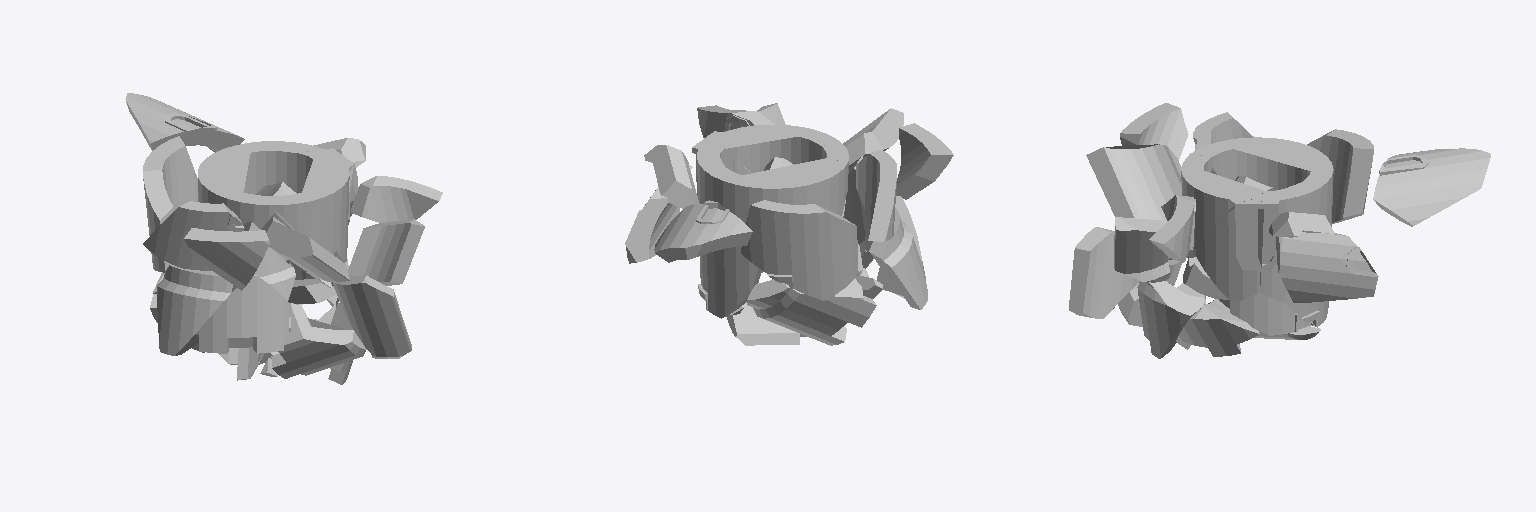
The model's file is destruction_tower_000047.obj.
The picture shows the model from 3 angles: view 1: azimuth 30°, elevation 25°; view 2: azimuth 150°, elevation 25°; view 3: azimuth 270°, elevation 25°; orthographic projection.
Parts seen in each view (by area): view 1: tower.001_cell.006_Mesh.006, tower.001_cell.005_Mesh.005, tower.001_cell.028_Mesh.028, tower.001_cell.021_Mesh.021, tower.001_cell.011_Mesh.011, tower.001_cell.003_Mesh.003, tower.001_cell_Mesh, tower.001_cell.025_Mesh.025, tower.001_cell.002_Mesh.002, tower.001_cell.009_Mesh.009, tower.001_cell.010_Mesh.010, tower.001_cell.017_Mesh.017 (+9 smaller); view 2: tower.001_cell.003_Mesh.003, tower.001_cell.017_Mesh.017, tower.001_cell.007_Mesh.007, tower.001_cell.015_Mesh.015, tower.001_cell.025_Mesh.025, tower.001_cell.028_Mesh.028, tower.001_cell.005_Mesh.005, tower.001_cell.009_Mesh.009, tower.001_cell.002_Mesh.002, tower.001_cell.012_Mesh.012, tower.001_cell.016_Mesh.016, tower.001_cell.029_Mesh.029 (+4 smaller); view 3: tower.001_cell.025_Mesh.025, tower.001_cell.012_Mesh.012, tower.001_cell.024_Mesh.024, tower.001_cell.020_Mesh.020, tower.001_cell.021_Mesh.021, tower.001_cell.015_Mesh.015, tower.001_cell.003_Mesh.003, tower.001_cell.023_Mesh.023, tower.001_cell.028_Mesh.028, tower.001_cell_Mesh, tower.001_cell.030_Mesh.030, tower.001_cell.017_Mesh.017 (+9 smaller).
Part boxes in pixels (x1,y1,x2,y2): tower.001_cell.006_Mesh.006: (196, 275, 288, 353); tower.001_cell.005_Mesh.005: (157, 265, 232, 355); tower.001_cell.028_Mesh.028: (270, 159, 354, 254); tower.001_cell.021_Mesh.021: (331, 275, 411, 358); tower.001_cell.011_Mesh.011: (271, 303, 366, 378); tower.001_cell.003_Mesh.003: (143, 136, 197, 272); tower.001_cell_Mesh: (348, 219, 424, 285); tower.001_cell.025_Mesh.025: (126, 93, 244, 152); tower.001_cell.002_Mesh.002: (184, 228, 269, 290); tower.001_cell.009_Mesh.009: (143, 201, 244, 270); tower.001_cell.010_Mesh.010: (351, 176, 442, 222); tower.001_cell.017_Mesh.017: (234, 141, 319, 263); tower.001_cell.003_Mesh.003: (741, 200, 858, 300); tower.001_cell.017_Mesh.017: (697, 152, 761, 318); tower.001_cell.007_Mesh.007: (747, 278, 876, 345); tower.001_cell.015_Mesh.015: (738, 158, 846, 215); tower.001_cell.025_Mesh.025: (654, 200, 752, 262); tower.001_cell.028_Mesh.028: (713, 125, 836, 172); tower.001_cell.005_Mesh.005: (869, 208, 927, 309); tower.001_cell.009_Mesh.009: (856, 150, 896, 241); tower.001_cell.002_Mesh.002: (896, 123, 953, 199); tower.001_cell.012_Mesh.012: (625, 165, 692, 263); tower.001_cell.016_Mesh.016: (644, 145, 699, 208); tower.001_cell.029_Mesh.029: (726, 302, 806, 345); tower.001_cell.025_Mesh.025: (1373, 148, 1490, 226); tower.001_cell.012_Mesh.012: (1276, 232, 1378, 302); tower.001_cell.024_Mesh.024: (1086, 144, 1181, 224); tower.001_cell.020_Mesh.020: (1193, 198, 1263, 302); tower.001_cell.021_Mesh.021: (1069, 227, 1139, 318); tower.001_cell.015_Mesh.015: (1233, 137, 1332, 189); tower.001_cell.003_Mesh.003: (1307, 129, 1373, 223); tower.001_cell.023_Mesh.023: (1137, 281, 1205, 358); tower.001_cell.028_Mesh.028: (1181, 154, 1264, 242); tower.001_cell_Mesh: (1114, 217, 1170, 282); tower.001_cell.030_Mesh.030: (1176, 299, 1259, 356); tower.001_cell.017_Mesh.017: (1285, 168, 1333, 327).
Bounding box in the file's own units: 83.63 × 58.43 × 119.